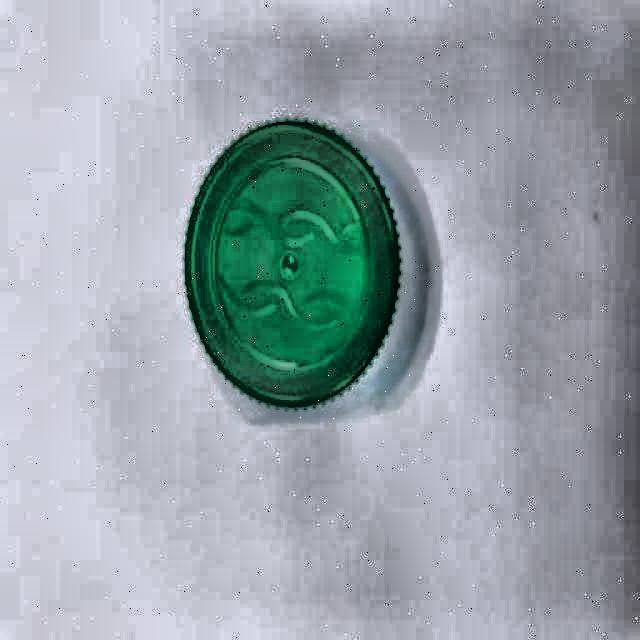plastic: (182, 120, 406, 413)
